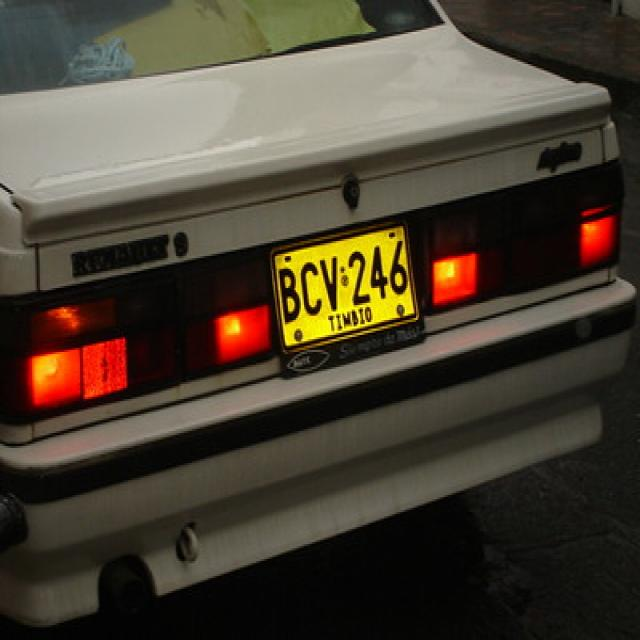placa_carro: (264, 220, 426, 354)
